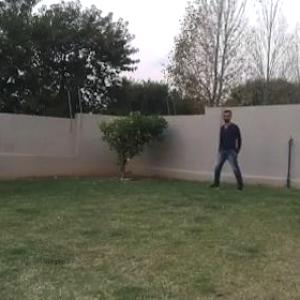follow: (219, 100, 241, 190)
